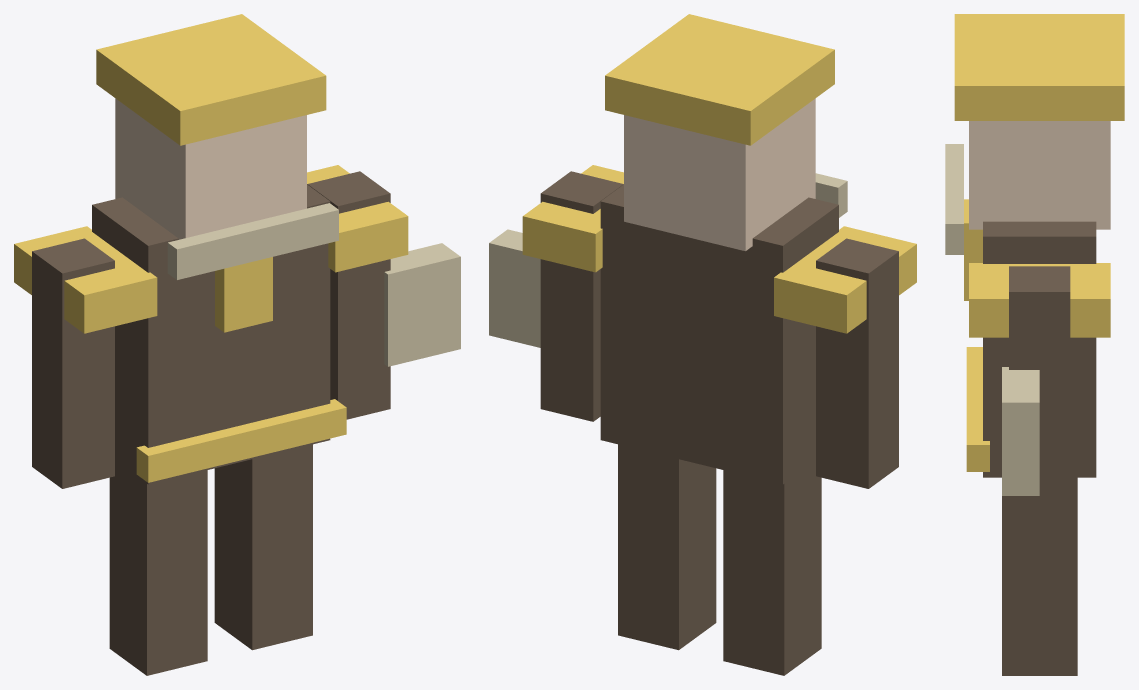
Rendered from 04_nyra_cinderholt_watcher_from_command.glb.
3 renders of one model, left to right at view 1: azimuth 30°, elevation 25°; view 2: azimuth 150°, elevation 25°; view 3: azimuth 270°, elevation 25°, orthographic.
Visible parts, largest first — view 1: Nyra Cinderholt, Watcher from Command; view 2: Nyra Cinderholt, Watcher from Command; view 3: Nyra Cinderholt, Watcher from Command.
Part boxes in pixels (box(x1,y1,x2,y2)): Nyra Cinderholt, Watcher from Command: box(14, 14, 460, 675); Nyra Cinderholt, Watcher from Command: box(489, 14, 916, 675); Nyra Cinderholt, Watcher from Command: box(945, 14, 1124, 675).
Size of the model in its own units: 1.07 by 1.49 by 0.4155.
